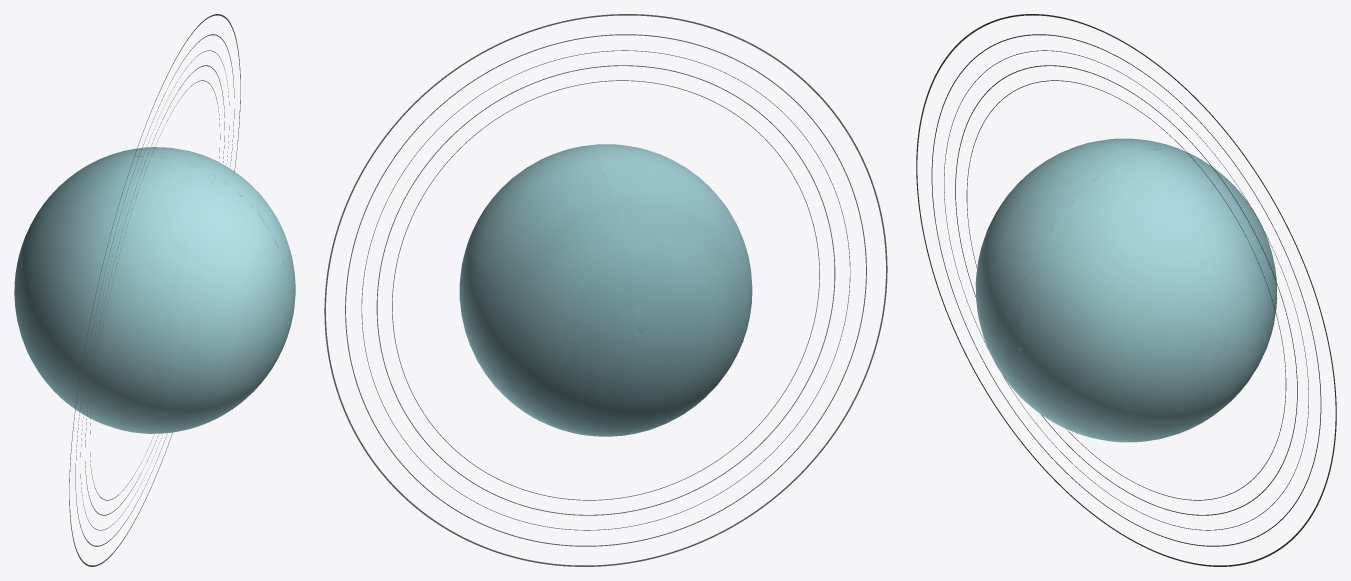
Rendered from uranus.glb.
3 renders of one model, left to right at view 1: azimuth 30°, elevation 25°; view 2: azimuth 150°, elevation 25°; view 3: azimuth 270°, elevation 25°, orthographic. The views are drawn at different scales.
Parts seen in each view (by area): view 1: Uranus, UranusRing4, UranusRing3, UranusRing1; view 2: Uranus, UranusRing4, UranusRing3, UranusRing1, UranusRing2, UranusRing0; view 3: Uranus, UranusRing4, UranusRing3, UranusRing1, UranusRing2, UranusRing0.
Boxes of the visible parts, x1=… form: Uranus: x1=14, y1=147, x2=295, y2=433; UranusRing4: x1=69, y1=14, x2=240, y2=566; UranusRing3: x1=75, y1=34, x2=234, y2=546; UranusRing1: x1=85, y1=65, x2=224, y2=515; Uranus: x1=459, y1=144, x2=752, y2=436; UranusRing4: x1=324, y1=14, x2=887, y2=566; UranusRing3: x1=345, y1=34, x2=866, y2=546; UranusRing1: x1=376, y1=65, x2=835, y2=515; UranusRing2: x1=361, y1=50, x2=850, y2=530; UranusRing0: x1=392, y1=80, x2=819, y2=500; Uranus: x1=975, y1=138, x2=1277, y2=442; UranusRing4: x1=916, y1=14, x2=1336, y2=566; UranusRing3: x1=931, y1=34, x2=1321, y2=546; UranusRing1: x1=955, y1=65, x2=1297, y2=515; UranusRing2: x1=944, y1=50, x2=1308, y2=530; UranusRing0: x1=966, y1=80, x2=1286, y2=500.
Size of the model in its own units: 4.02 by 5.5 by 3.86.
2 materials, 1 textured.
